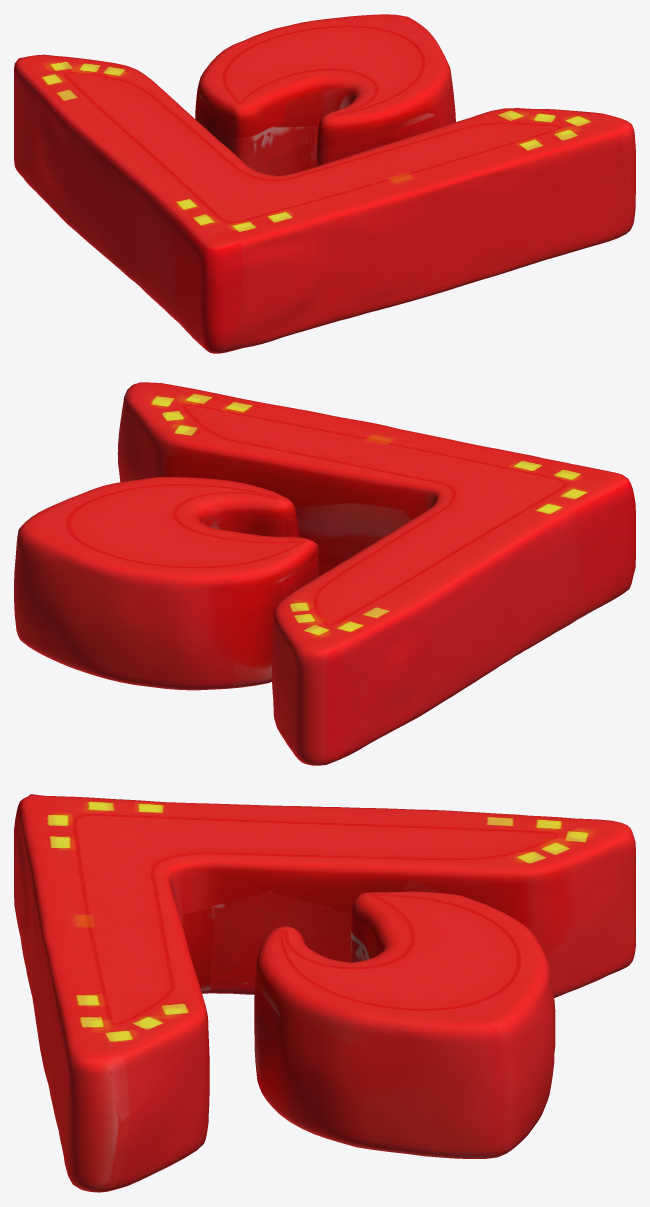
Rendered from Instant Fill_texture.fbx.
3 renders of one model, top to bottom at view 1: azimuth 30°, elevation 25°; view 2: azimuth 150°, elevation 25°; view 3: azimuth 270°, elevation 25°, orthographic. The views are drawn at different scales.
Parts seen in each view (by area): view 1: Mesh0; view 2: Mesh0; view 3: Mesh0.
Part boxes in pixels (x1,y1,x2,y2): Mesh0: [14, 14, 635, 353]; Mesh0: [14, 382, 635, 765]; Mesh0: [14, 794, 635, 1192].
Bounding box in the file's own units: 192 × 43.9 × 183.
Materials: 1 (1 with a texture image).
